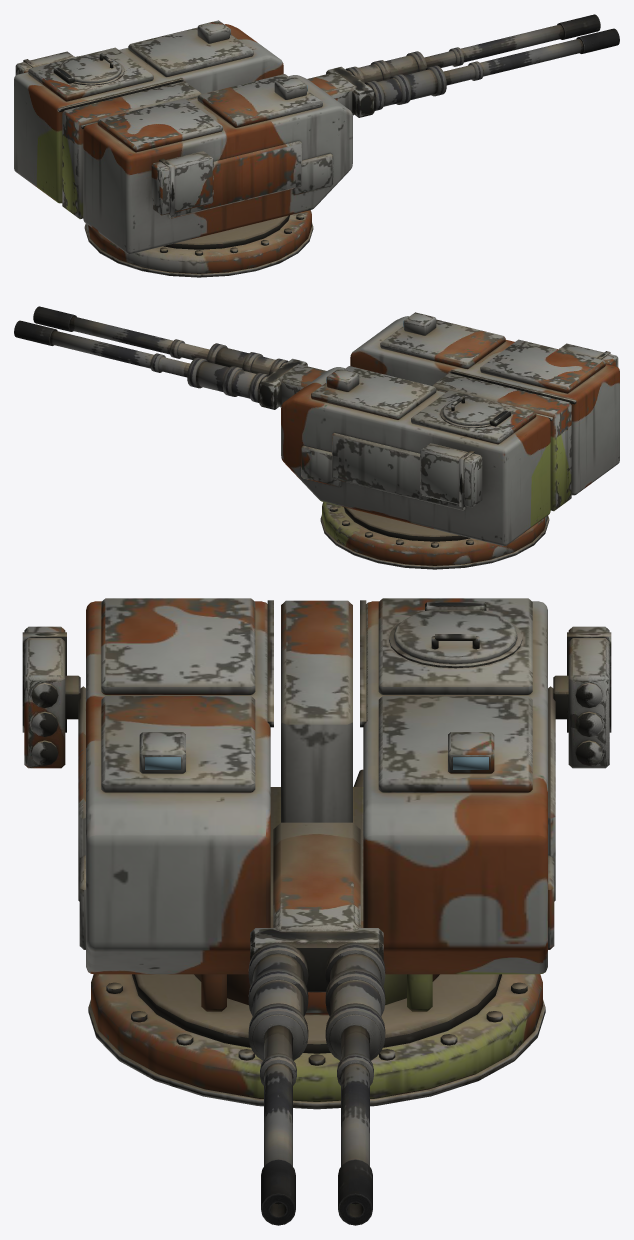
The model's file is turret_kit_t1_rust.glb.
3 views of the same model, one above another, from view 1: azimuth 30°, elevation 25°; view 2: azimuth 150°, elevation 25°; view 3: azimuth 270°, elevation 25° (orthographic). The views are drawn at different scales.
Parts seen in each view (by area): view 1: turret_twin_t1, guns, pods; view 2: turret_twin_t1, guns, pods; view 3: turret_twin_t1, guns, pods.
Boxes of the visible parts, x1,y1,x2,y2 form: turret_twin_t1: [14, 20, 352, 277]; guns: [308, 14, 619, 117]; pods: [15, 51, 213, 215]; turret_twin_t1: [281, 312, 619, 569]; guns: [14, 306, 325, 409]; pods: [420, 343, 618, 507]; turret_twin_t1: [78, 598, 555, 1109]; guns: [248, 822, 385, 1225]; pods: [22, 626, 611, 768].
Size of the model in its own units: 2.41 by 0.695 by 1.15.
Materials: 4 (3 with a texture image).
